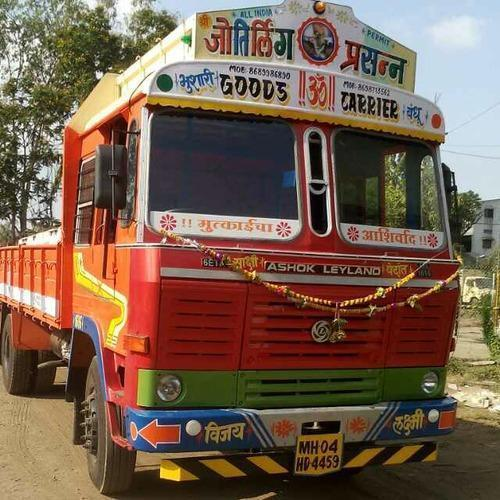doublelinenumberplate: (293, 434, 344, 476)
